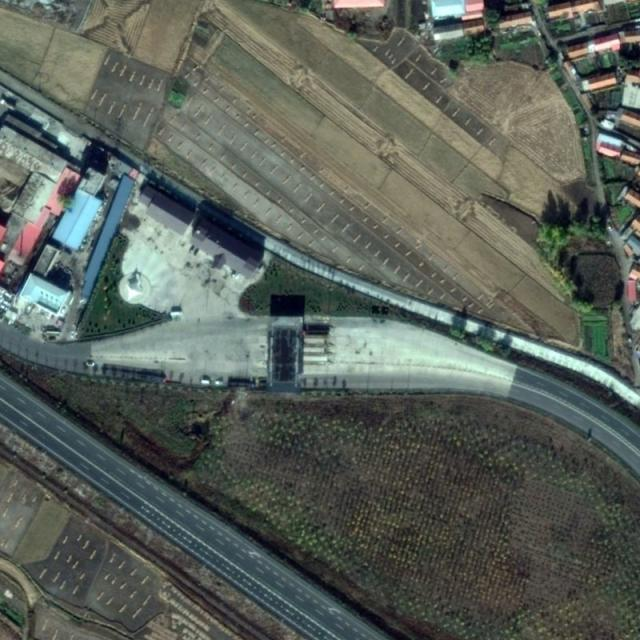vehicle: (228, 380, 255, 389), (170, 310, 183, 318), (201, 379, 210, 385), (86, 361, 95, 367)
